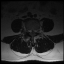CCS_normal: (31, 28, 33, 36)
LFS_normal: (35, 27, 37, 34)
LLS_normal: (33, 28, 35, 35)
RFS_normal: (27, 27, 30, 34)
RLS_normal: (30, 28, 31, 35)
